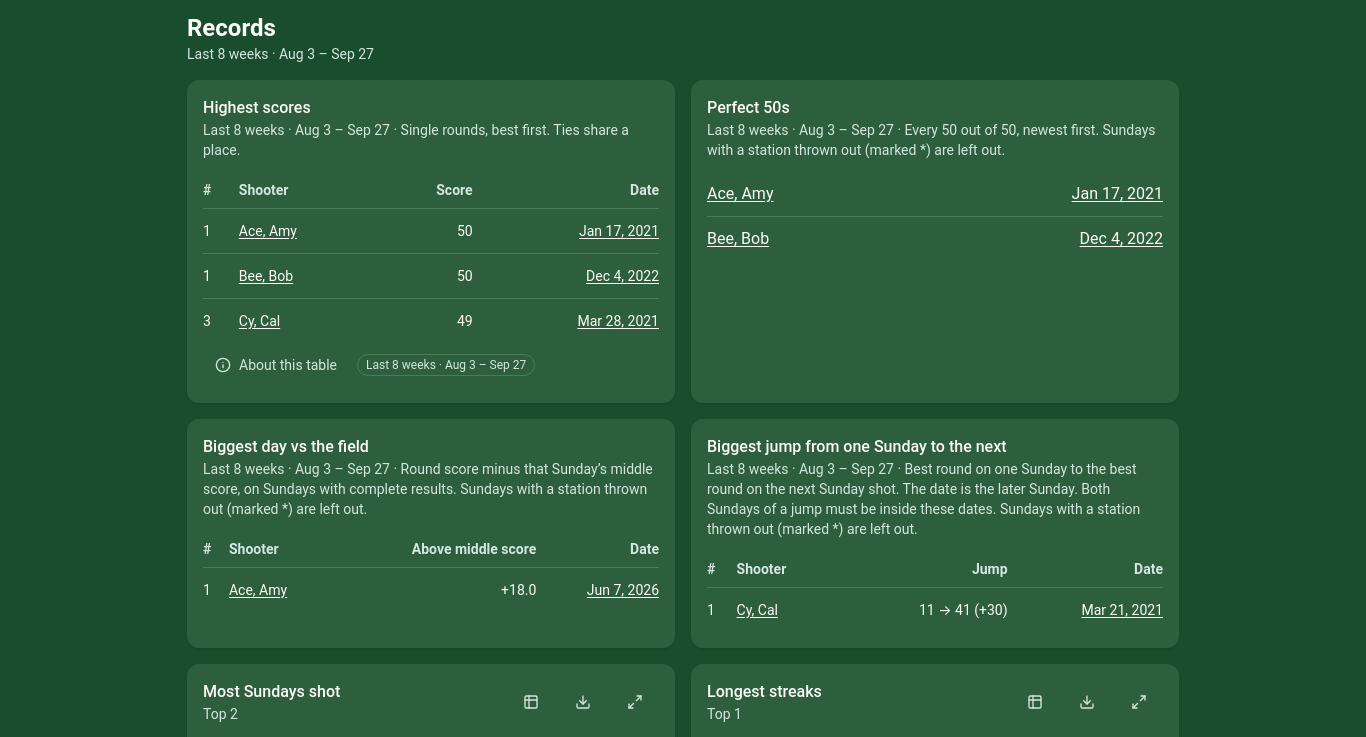
Test: RecordsPage › labels a shared display name with the shooter id in the chart table
Click the button named "Table" in the row of "Most Sundays shot".
click(531, 702)  # box [507,680,555,724]
(page scrolled)
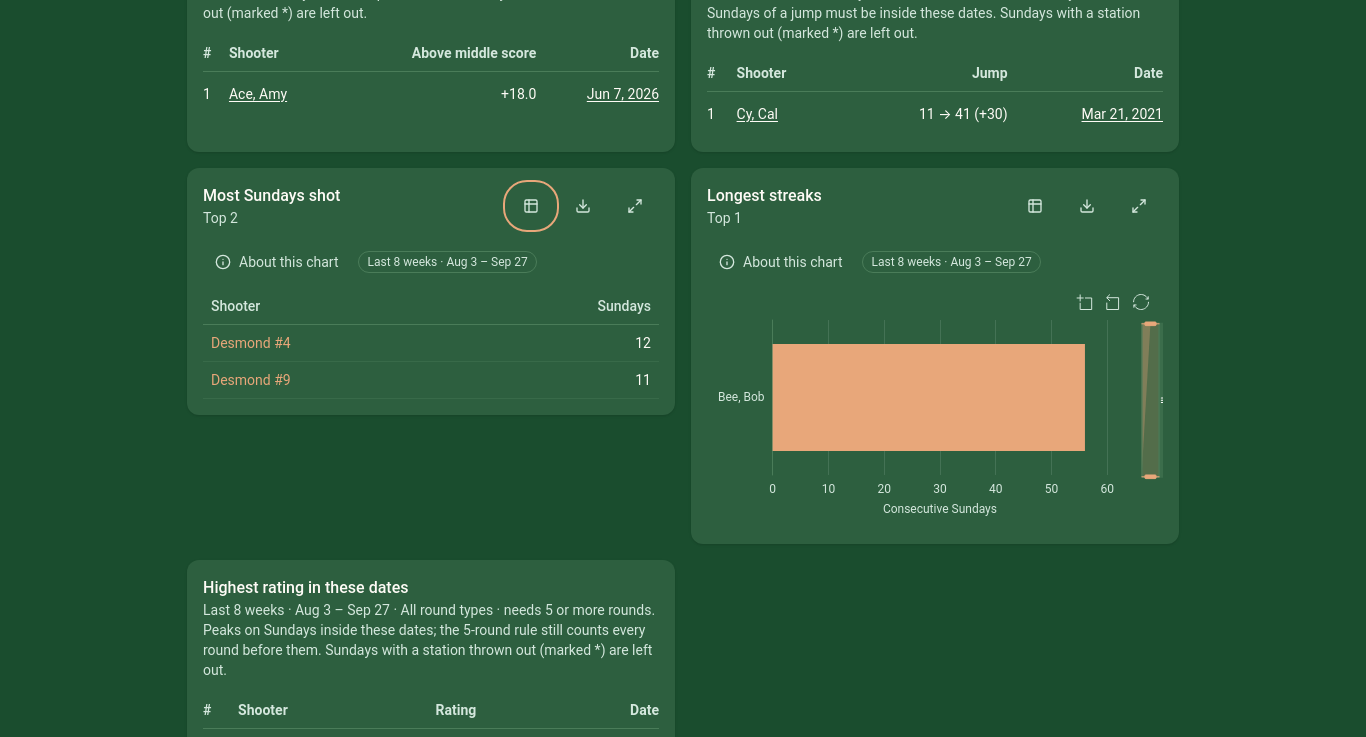
Result: the link "Desmond #9" is shown at [211,372,291,388]
